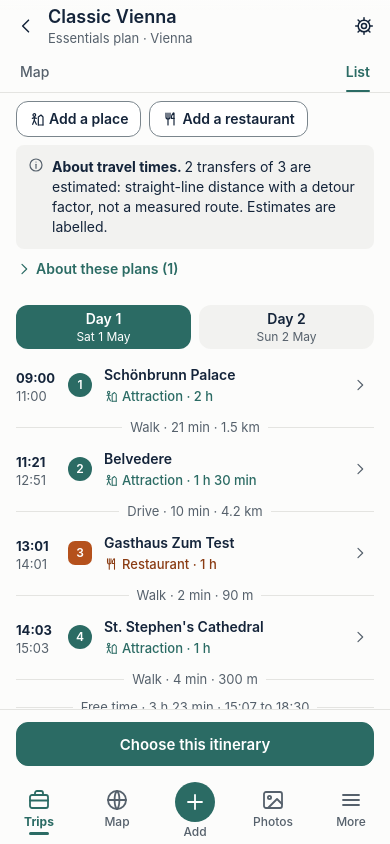
Scenario: plan notes sit behind one control; estimated transfers are explained once, not twice
Expected: the text "Schönbrunn Palace" is shown, x1=104 y1=365 x2=236 y2=385
Click the button with aria-label "About these plans, 1 notes" at (102, 268), box x1=16 y1=249 x2=374 y2=289
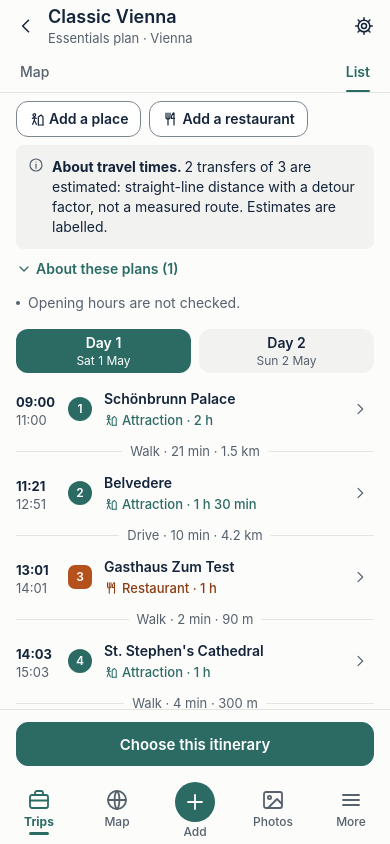
Now the text "Opening hours are not checked." is shown, box x1=28 y1=294 x2=240 y2=311
